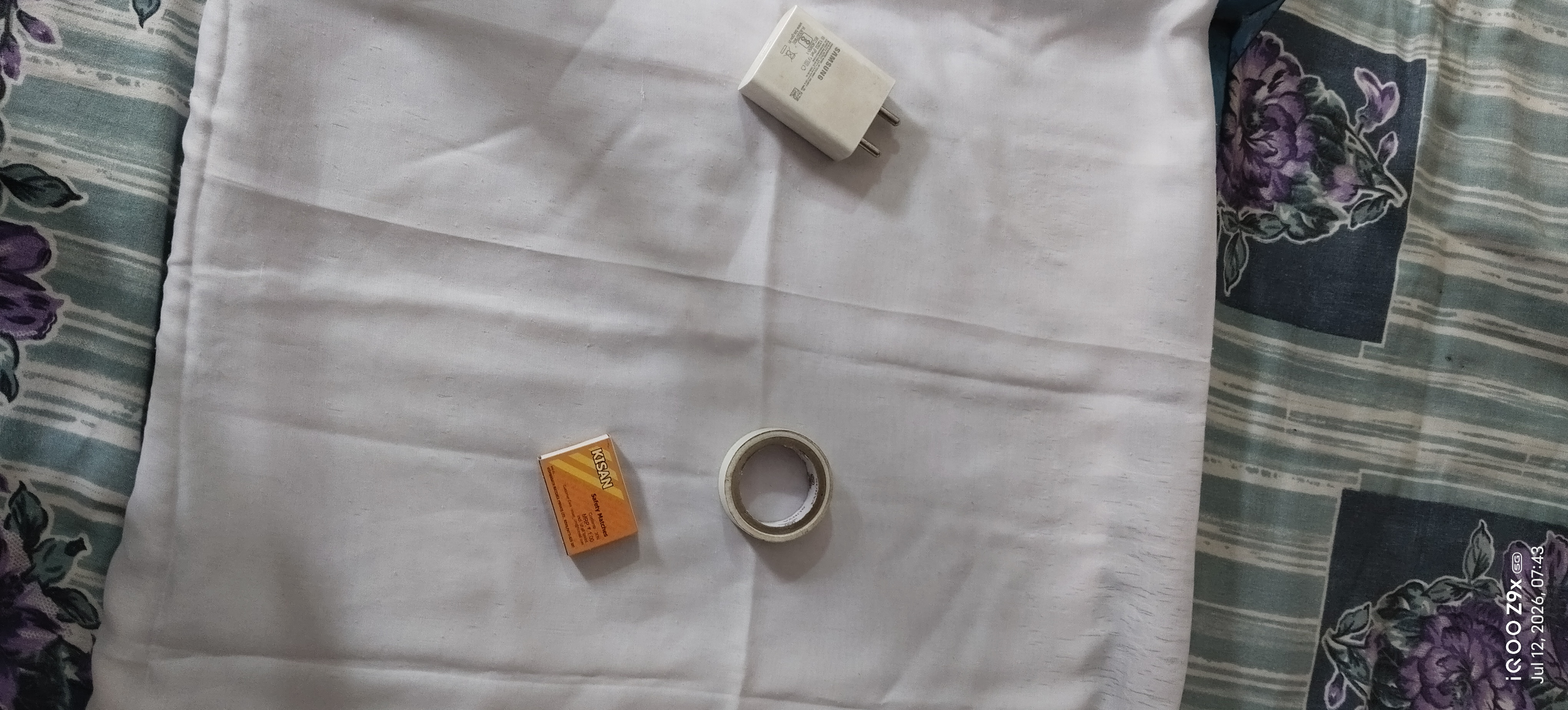charger: (717, 0, 940, 198)
matchbox: (524, 420, 670, 570)
tape_roll: (701, 404, 850, 566)
